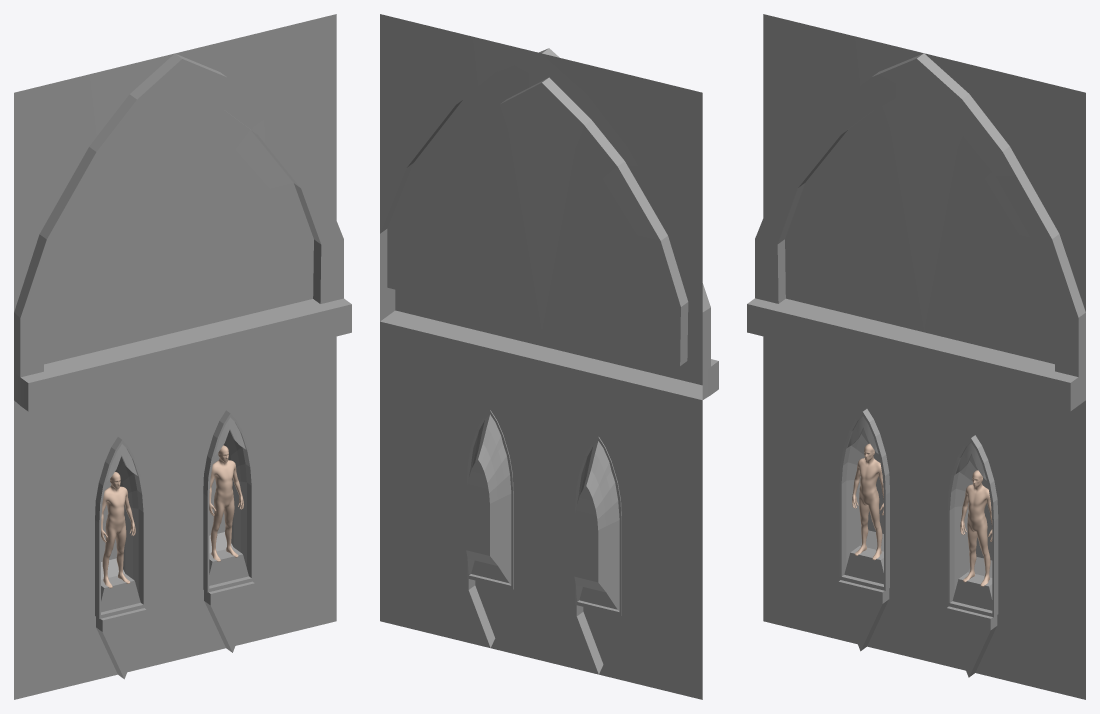
Rendered from SM_wall_02.fbx.
3 renders of one model, left to right at view 1: azimuth 30°, elevation 25°; view 2: azimuth 150°, elevation 25°; view 3: azimuth 330°, elevation 25°, orthographic.
Parts seen in each view (by area): view 1: polySurface3006; view 2: polySurface3006; view 3: polySurface3006.
Boxes of the visible parts, <box> form: polySurface3006: <box>14,14,351,699</box>; polySurface3006: <box>380,14,718,699</box>; polySurface3006: <box>747,14,1085,699</box>.
Size of the model in its own units: 18 by 32.28 by 2.68.
